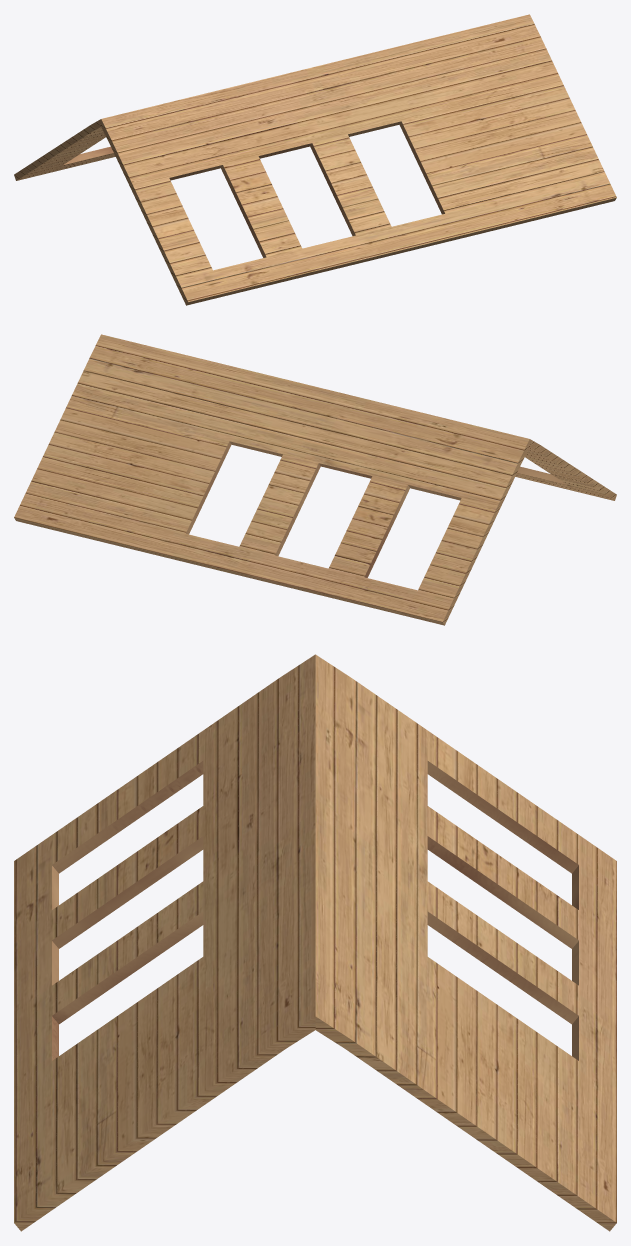
File: improvedroof.glb
The picture shows the model from 3 angles, top to bottom: view 1: azimuth 30°, elevation 25°; view 2: azimuth 150°, elevation 25°; view 3: azimuth 270°, elevation 25°; orthographic projection. The views are drawn at different scales.
Visible parts, largest first — view 1: Cube; view 2: Cube; view 3: Cube.
Boxes of the visible parts, box(x1,y1,x2,y2) form: Cube: box(14, 14, 616, 305); Cube: box(14, 334, 616, 625); Cube: box(14, 654, 616, 1231).
Bounding box in the file's own units: 18 × 4.99 × 12.67.
1 material, 1 textured.
